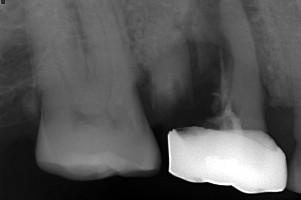Dental Caries: (240, 0, 280, 89), (184, 0, 227, 50)
